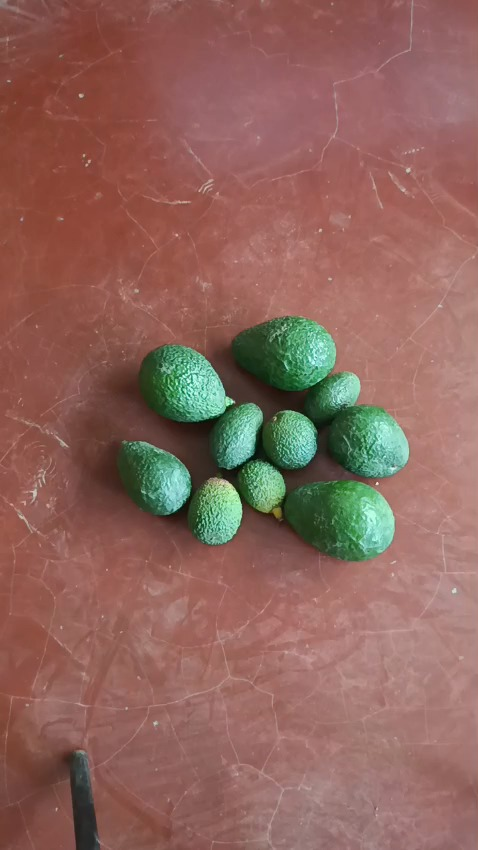Primera: (283, 478, 395, 558), (231, 316, 337, 390), (137, 344, 229, 423)
Segunda: (326, 405, 409, 477), (116, 439, 192, 515)
Tercera: (209, 402, 265, 470), (187, 476, 243, 544), (262, 409, 318, 470), (303, 371, 361, 427), (236, 459, 287, 514)
